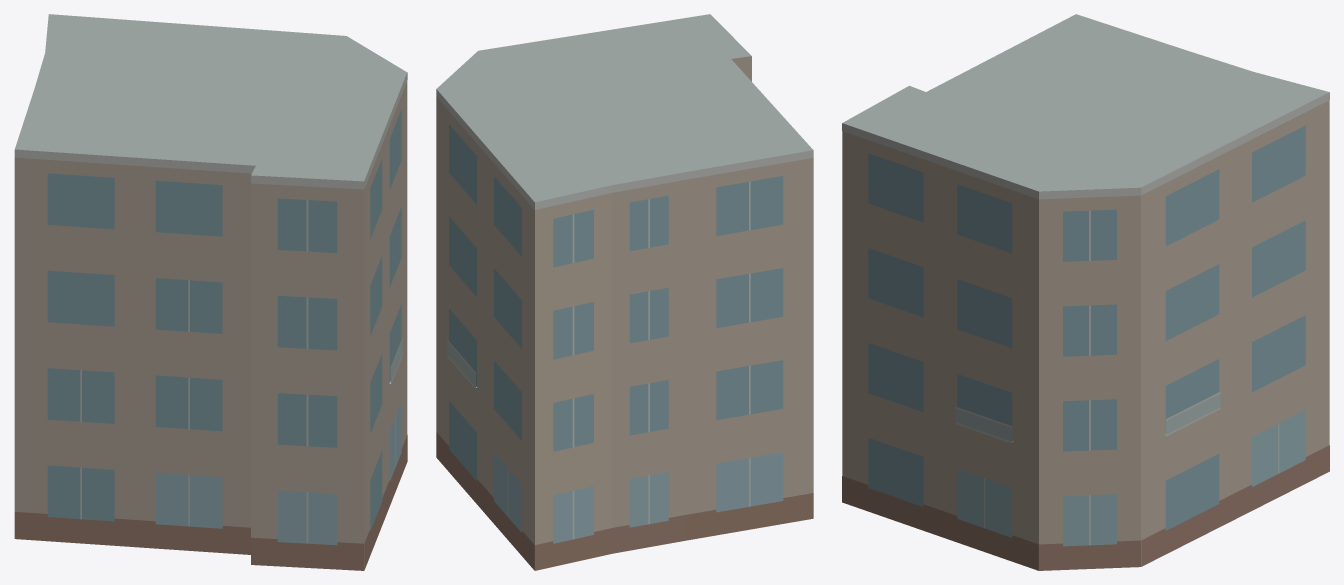
File: survey-upis-32819866.glb
3 renders of one model, left to right at view 1: azimuth 30°, elevation 25°; view 2: azimuth 150°, elevation 25°; view 3: azimuth 270°, elevation 25°, orthographic. The views are drawn at different scales.
Visible parts, largest first — view 1: survey-upis-32819866.tmp; view 2: survey-upis-32819866.tmp; view 3: survey-upis-32819866.tmp.
Part boxes in pixels (left/top/right/bottom): survey-upis-32819866.tmp: left=14, top=14, right=407, bottom=570; survey-upis-32819866.tmp: left=436, top=14, right=813, bottom=570; survey-upis-32819866.tmp: left=842, top=14, right=1329, bottom=570.
Bounding box in the file's own units: 11.86 × 11.8 × 13.76.
